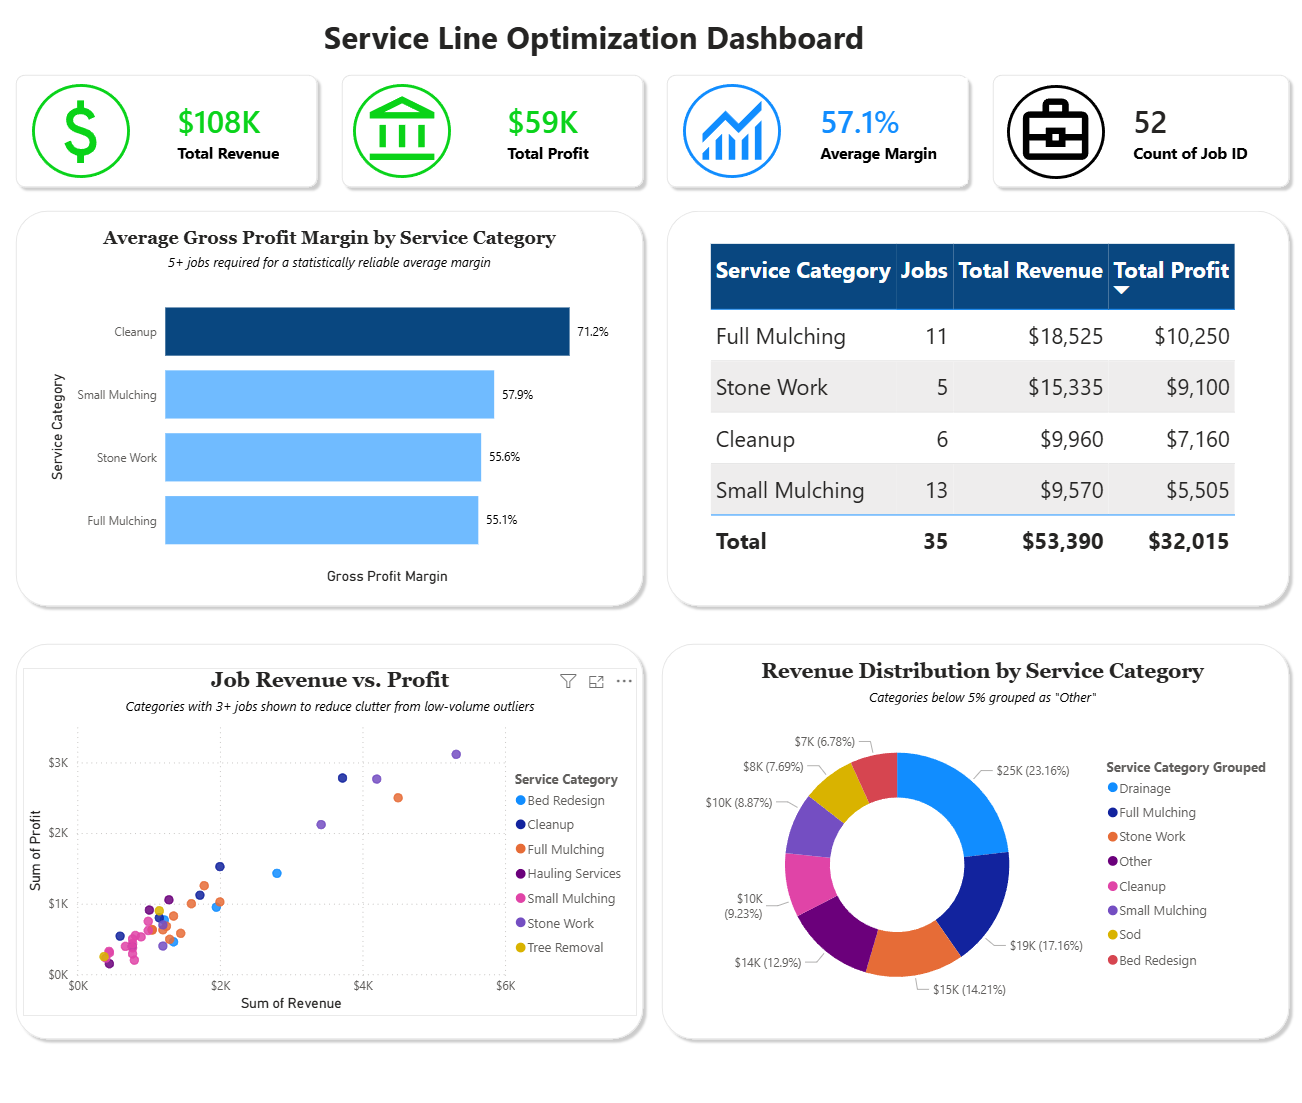

The page's visual inventory and layout, read from the dashboard file:
{"tool":"powerbi","page":{"name":"Page 1","canvas":[1350,1200],"ordinal":0},"visuals":[{"type":"shape","box":[11.3,215.5,660.8,421.6],"z":0},{"type":"shape","box":[682.5,215.5,655.7,421.6],"z":1000},{"type":"clusteredBarChart","title":"Average Gross Profit Margin by Service Category","fields":{"Category":["public jobs.jobcategory"],"Y":["Avg(public jobs.grossprofitmarginpct)"]},"box":[48.5,240.2,586.6,372.2],"z":2000},{"type":"tableEx","fields":{"Values":["public jobs.Service Category","CountNonNull(public jobs.jobid)","Sum(public jobs.revenue)","Sum(public jobs.profit)"]},"box":[728.9,251.5,555.7,349.5],"z":3000},{"type":"shape","box":[347.4,75.3,324.7,129.9],"z":4000},{"type":"shape","box":[682.5,75.3,324.7,129.9],"z":5000},{"type":"shape","box":[11.3,75.3,324.7,129.9],"z":6000},{"type":"shape","box":[1018.6,75.3,319.6,129.9],"z":7000},{"type":"textbox","box":[319.3,15.1,589.6,55.6],"z":8000},{"type":"cardVisual","fields":{"Data":["Sum(public jobs.Revenue)"]},"box":[155.7,92.8,172.2,93.8],"z":9000},{"type":"cardVisual","fields":{"Data":["Avg(public jobs.Gross Profit Margin)"]},"box":[818.6,85.6,181.4,109.3],"z":10000},{"type":"cardVisual","fields":{"Data":["CountNonNull(public jobs.Job ID)"]},"box":[1141.2,91.8,184.5,96.9],"z":11000},{"type":"cardVisual","fields":{"Data":["public jobs.Total Profit Rounded"]},"box":[495.9,91.8,168,95.9],"z":12000},{"type":"shape","box":[35.1,91.8,101,96.9],"z":13000},{"type":"image","box":[17.5,97.9,135.1,85.6],"z":14000},{"type":"shape","box":[706.2,91.8,101,96.9],"z":15000},{"type":"shape","box":[1040.2,92.8,101,96.9],"z":16000},{"type":"shape","box":[366,91.8,101,96.9],"z":17000},{"type":"image","box":[352.6,101,127.8,79.4],"z":18000},{"type":"image","box":[706.2,99,101,81.4],"z":19000},{"type":"image","box":[1027.8,100,124.7,80.4],"z":20000},{"type":"shape","box":[11.3,661.9,660.8,421.6],"z":21000},{"type":"shape","box":[677.3,661.9,660.8,421.6],"z":22000},{"type":"scatterChart","title":"Job Revenue vs. Profit","fields":{"X":["Sum(public jobs.Revenue)"],"Y":["Sum(public jobs.Profit)"],"Series":["public jobs.Service Category"],"Category":["public jobs.Job ID"]},"box":[25.8,693.8,633,358.8],"z":23000},{"type":"donutChart","title":"Revenue Distribution by Service Category","fields":{"Y":["Sum(public jobs.Revenue)"],"Category":["public jobs.Service Category Grouped"]},"box":[706.2,684.5,617.5,377.3],"z":24000}]}

Visuals, with their boxes on the page's 1350x1200 design canvas (x1, y1, x2, y2). These are canvas units, not pixel positions in the 1302x1103 screenshot, which may show the page scaled, cropped or inside an application window:
shape: BBox(11, 216, 672, 637)
shape: BBox(682, 216, 1338, 637)
"Average Gross Profit Margin by Service Category" clusteredBarChart: BBox(48, 240, 635, 612)
tableEx - public jobs.Service Category x CountNonNull(public jobs.jobid): BBox(729, 252, 1285, 601)
shape: BBox(347, 75, 672, 205)
shape: BBox(682, 75, 1007, 205)
shape: BBox(11, 75, 336, 205)
shape: BBox(1019, 75, 1338, 205)
textbox: BBox(319, 15, 909, 71)
cardVisual - Sum(public jobs.Revenue): BBox(156, 93, 328, 187)
cardVisual - Avg(public jobs.Gross Profit Margin): BBox(819, 86, 1000, 195)
cardVisual - CountNonNull(public jobs.Job ID): BBox(1141, 92, 1326, 189)
cardVisual - public jobs.Total Profit Rounded: BBox(496, 92, 664, 188)
shape: BBox(35, 92, 136, 189)
image: BBox(18, 98, 153, 184)
shape: BBox(706, 92, 807, 189)
shape: BBox(1040, 93, 1141, 190)
shape: BBox(366, 92, 467, 189)
image: BBox(353, 101, 480, 180)
image: BBox(706, 99, 807, 180)
image: BBox(1028, 100, 1152, 180)
shape: BBox(11, 662, 672, 1084)
shape: BBox(677, 662, 1338, 1084)
"Job Revenue vs. Profit" scatterChart: BBox(26, 694, 659, 1053)
"Revenue Distribution by Service Category" donutChart: BBox(706, 684, 1324, 1062)
